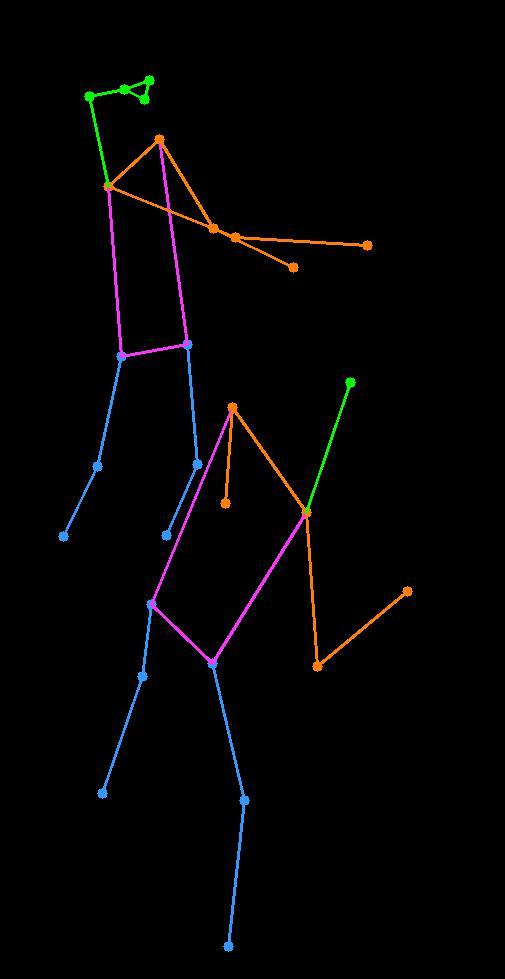normal: (40, 59, 283, 547)
